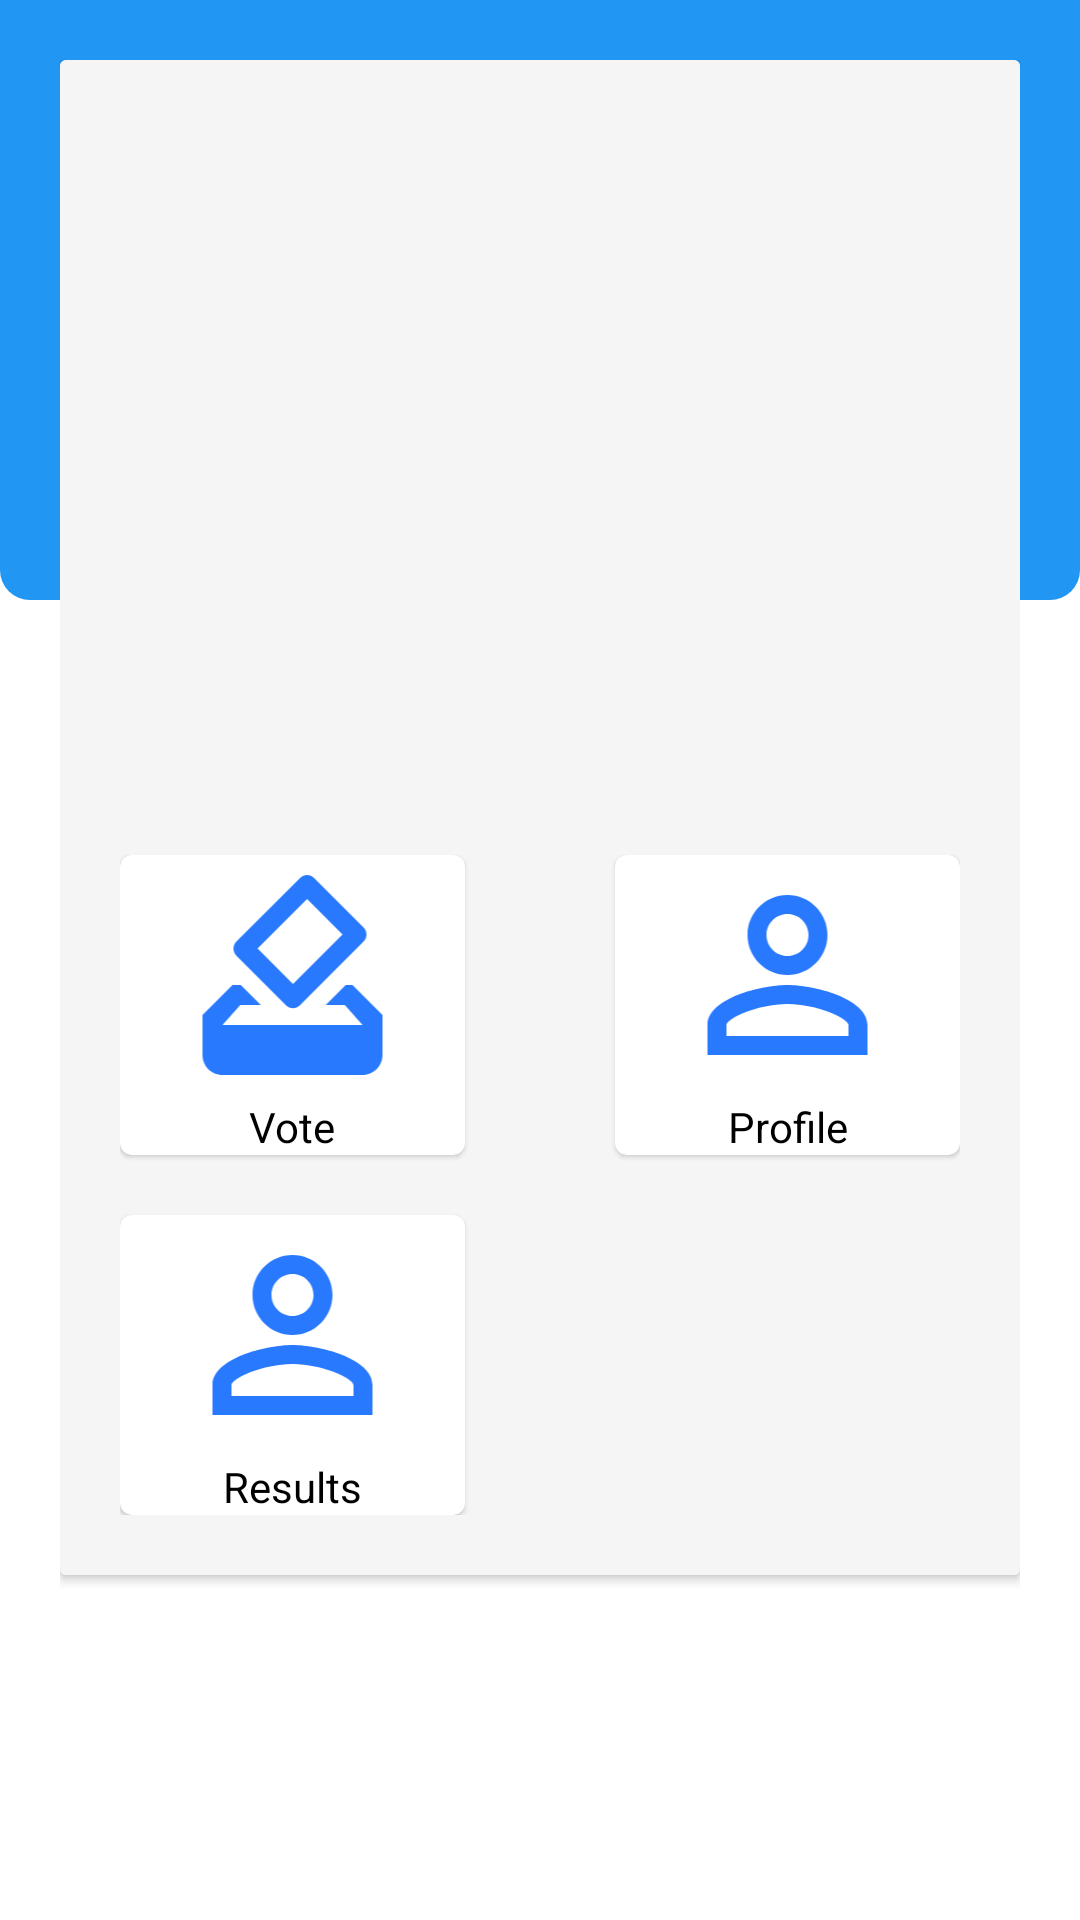

Icons on this 1080px x 1920px Android screen, each with the point to tap as [x,y]:
person: [833,958], [292,1335]
